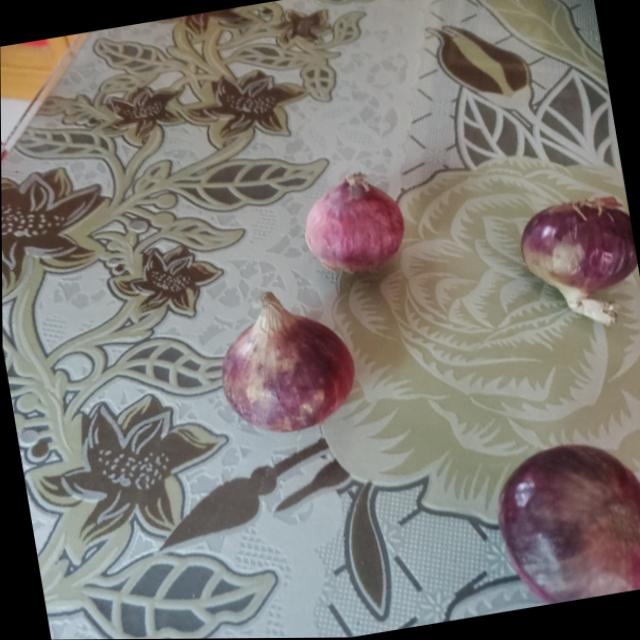onion: (492, 433, 640, 610), (214, 299, 365, 444), (513, 194, 638, 305), (298, 169, 409, 279)
